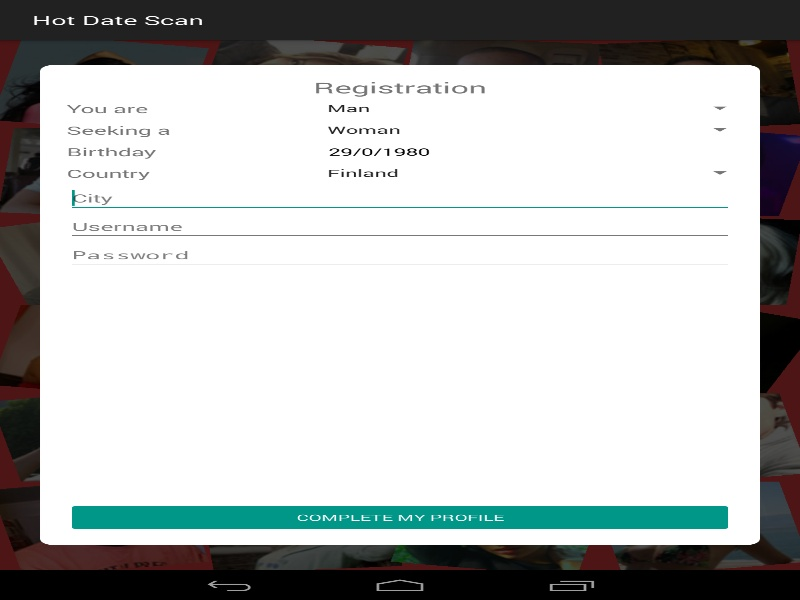Button: (66, 502, 733, 532)
Input: (66, 240, 733, 269), (66, 184, 733, 212), (66, 212, 733, 240)
